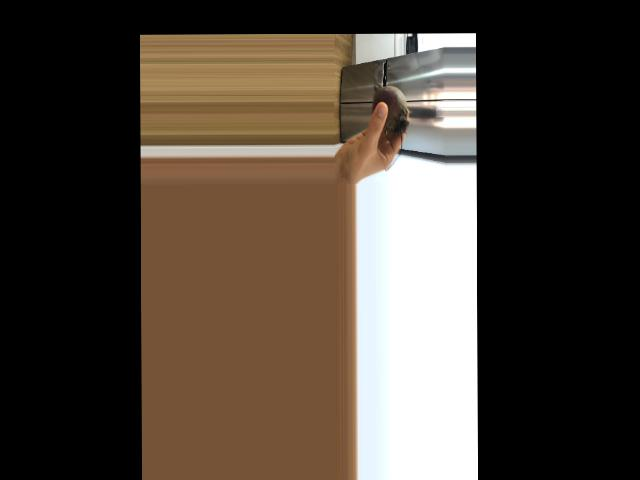beet: (372, 77, 409, 170)
